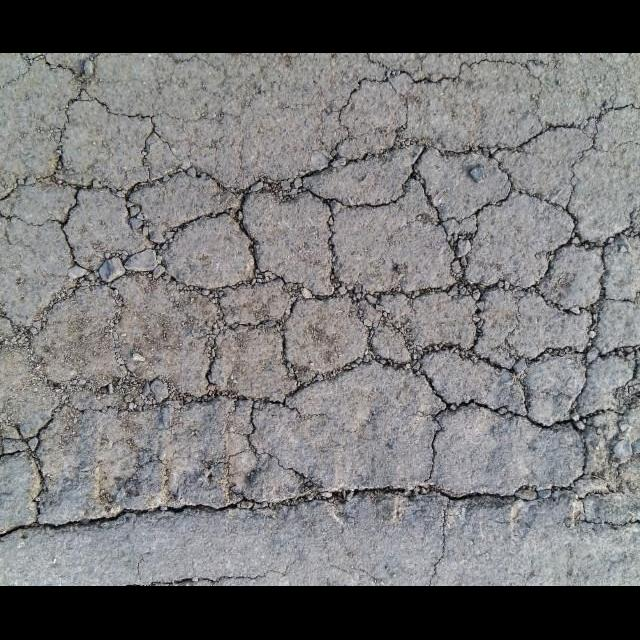retak_kulit_buaya: (0, 53, 640, 555)
